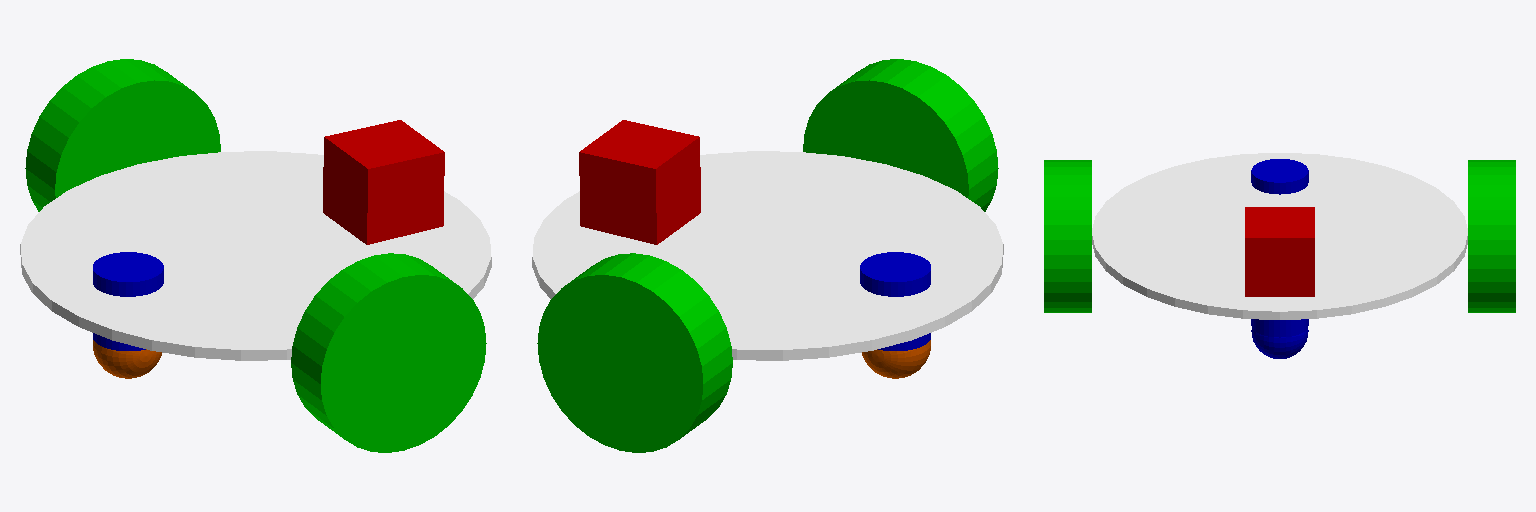
The robot description file, URDF, robot "my_model":
<?xml version="1.0" ?>

<robot name="my_model" xmlns:xacro="http://www.ros.org/wiki/xacro">
  <!-- Wheels -->
  <!-- in kg-->
  <!-- Defining the colors used in this robot -->
  
  <material name="Black">
    <color rgba="0.0 0.0 0.0 1.0"/>
  </material>
  <material name="Red">
    <color rgba="0.8 0.0 0.0 1.0"/>
  </material>
  <material name="Green">
    <color rgba="0.0 0.8 0.0 1.0"/>
  </material>
  <material name="White">
    <color rgba="1.0 1.0 1.0 1.0"/>
  </material>
  <material name="Blue">
    <color rgba="0.0 0.0 0.8 1.0"/>
  </material>
   --&gt; 

  <!-- BASE-LINK -->
  <!--Actual body/chassis of the robot-->

  <link name="base_link">
    <inertial>
      <mass value="0.1"/>
      <origin xyz="0 0 0.05"/>
      <!--The 3x3 rotational inertia matrix. -->
       <inertia ixx="0.0000282916666667" ixy="0" ixz="0" iyy="0.0000282916666667" iyz="0" izz="0.00005625"/>
    </inertial>
    <visual>
      <origin rpy="0 0 0" xyz="0 0 0"/>
      <geometry>
        <cylinder length="0.004" radius="0.08"/>
      </geometry>
      <material name="White"/>
    </visual>
    <collision>
      <origin rpy="0 0 0 " xyz="0 0 0"/>
      <geometry>
        <cylinder length="0.005" radius="0.08"/>
      </geometry>
    </collision>
  </link>
  <gazebo reference="base_link">
    <material>Gazebo/White</material>
    <turnGravityOff>false</turnGravityOff>
  </gazebo>

  <!-- BASE-upperlink -->

<!-- <link name="base_upperlink">
    <inertial>
      <mass value="0.01"/>
      <origin xyz="0 0 0"/>
      <inertia ixx="0.0001" ixy="0" ixz="0" iyy="0.0001" iyz="0" izz="0.0001"/>
    </inertial>
    <visual>
      <origin rpy="0 0 0" xyz="0 0 0"/>
      <geometry>
        <cylinder length="0.004" radius="0.12"/>
      </geometry>
  <material name="White"/>  
  </visual>
    <collision>
      <origin rpy="0 0 0 " xyz="0 0 0"/>
      <geometry>
        <cylinder length="0.005" radius="0.08"/>
      </geometry>
   <material name="White"/>
    </collision>
  </link>
  <gazebo reference="base_upperlink">
  
    <turnGravityOff>false</turnGravityOff>
  </gazebo>
  <joint name="base_upperlink_joint" type="fixed">
    <origin rpy="0 0 0" xyz="0 0 0.054"/>
    <parent link="base_link"/>
    <child link="base_upperlink"/>
  </joint>
 -->



  <!--fb : front, back ; lr: left, right -->
  <link name="right_wheel">
    <visual>
      <origin rpy="1.57079632679 0  0 " xyz="0 0 0"/>
      <geometry>
        <cylinder length="0.02" radius="0.0325"/>
      </geometry>
      <material name="Green"/>
    </visual>
    <collision>
      <origin rpy="1.57079632679 0 0 " xyz="0 0 0"/>
      <geometry>
        <cylinder length="0.005" radius="0.025"/>
      </geometry>
    </collision>
    <inertial>
      <mass value="0.5"/>
      <origin xyz="0 0 0"/>
      <inertia ixx="0.0001" ixy="0" ixz="0" iyy="0.0001" iyz="0" izz="0.0001"/>
    </inertial>
  </link>
  <gazebo reference="right_wheel">
    <mu1 value="1.0"/>
    <mu2 value="1.0"/>
    <kp value="100000.0"/>
    <kd value="1.0"/>
    <fdir1 value="1 0 0"/>
    <material>Gazebo/Green</material>
    <turnGravityOff>false</turnGravityOff>
  </gazebo>
  <joint name="right_wheel_joint" type="continuous">
    <parent link="base_link"/>
    <child link="right_wheel"/>
      <origin rpy="0 0 0" xyz="0.0 0.09 0"/>
    <axis rpy="0 0 0" xyz="0 1 0"/>
    <limit effort="100" velocity="100"/>
    <joint_properties damping="0.0" friction="0.0"/>
  </joint>
  <!-- Transmission is important to link the joints and the controller -->


  <transmission name="right_wheel_joint_trans">
    <type>transmission_interface/SimpleTransmission</type>
    <joint name="right_wheel_joint"/>
    <actuator name="right_wheel_joint_motor">
      <hardwareInterface>EffortJointInterface</hardwareInterface>
      <mechanicalReduction>1</mechanicalReduction>
    </actuator>
  </transmission>
  
  <!--left motor -->
  <link name="left_wheel">
    <visual>
      <origin rpy="1.57079632679 0  0 " xyz="0 0 0"/>
      <geometry>
        <cylinder length="0.02" radius="0.0325"/>
      </geometry>
      <material name="Green"/>
    </visual>
    <collision>
      <origin rpy="1.57079632679 0 0 " xyz="0 0 0"/>
      <geometry>
        <cylinder length="0.005" radius="0.025"/>
      </geometry>
    </collision>
    <inertial>
      <mass value="0.5"/>
      <origin xyz="0 0 0"/>
      <inertia ixx="0.0001" ixy="0" ixz="0" iyy="0.0001" iyz="0" izz="0.0001"/>
    </inertial>
  </link>
  <gazebo reference="left_wheel">
    <mu1 value="1.0"/>
    <mu2 value="1.0"/>
    <kp value="100000.0"/>
    <kd value="1.0"/>
    <fdir1 value="1 0 0"/>
    <material>Gazebo/Green</material>
    <turnGravityOff>false</turnGravityOff>
  </gazebo>
  <joint name="left_wheel_joint" type="continuous">
    <parent link="base_link"/>
    <child link="left_wheel"/>
    <origin rpy="0 0 0" xyz="0.0 -0.09 0"/>
    <axis rpy="0  0" xyz="0 1 0"/>
    <limit effort="100" velocity="100"/>
    <joint_properties damping="0.0" friction="0.0"/>
  </joint>

  <!-- Transmission is important to link the joints and the controller -->
  <transmission name="left_wheel_joint_trans">
    <type>transmission_interface/SimpleTransmission</type>
    <joint name="left_wheel_joint"/>
    <actuator name="left_wheel_joint_motor">
      <hardwareInterface>EffortJointInterface</hardwareInterface>
      <mechanicalReduction>1</mechanicalReduction>
    </actuator>
  </transmission>

  <!--Caster front  -->

  <link name="caster_front_link">
    <visual>
      <origin rpy="1.57079632679 0 0" xyz="0 0 0"/>
      <geometry>
        <sphere radius="0.01214"/>
      </geometry>
      <material name="Blue"/>
    </visual>
    <collision>
      <geometry>
        <sphere radius="0.007"/>
      </geometry>
      <origin rpy="1.57079632679 0 0" xyz="0 0 0"/>
    </collision>
    <inertial>
      <mass value="0.5"/>
      <origin xyz="0 0 0"/>
      <inertia ixx="0.0000001" ixy="0.0" ixz="0.0" iyy="0.0000001" iyz="0.0" izz="0.0000001"/>
    </inertial>
  </link>
  <joint name="caster_front_joint" type="continuous">
    <parent link="caster_link"/>
    <child link="caster_front_link"/>
    <origin rpy="0 0 0" xyz="0.05 0 -0.01545"/>
    <axis rpy="0 0 0" xyz="0 1 0"/>
  </joint>
  <gazebo reference="caster_front_link">
<!--     <mu1 value="1.0"/>
    <mu2 value="1.0"/>
    <kp value="100000.0"/>
    <kd value="1.0"/>
    <fdir1 value="1 1 0"/> -->
    <turnGravityOff>false</turnGravityOff>
    <material>Gazebo/Blue</material>
  </gazebo>
  
<link name="caster_link">
    <visual>
      <origin rpy="0 0  0 " xyz="0.05 0 0"/>
      <geometry>
        <cylinder length="0.02586" radius="0.01214"/>
      </geometry>
      <material name="Blue"/>
    </visual>
    <collision>
      <origin rpy="0 0 0 " xyz="0.05 0 0"/>
      <geometry>
        <cylinder length="0.02586" radius="0.005"/>
      </geometry>
    </collision>
    <inertial>
      <mass value="0.05"/>
      <origin xyz="0.05 0 0"/>
      <inertia ixx="0.00001" ixy="0" ixz="0" iyy="0.00001" iyz="0" izz="0.00001"/>
    </inertial>
  </link>
  
<joint name="caster_front_joint_base" type="fixed">
    <parent link="base_link"/>
    <child link="caster_link"/>
    <origin rpy="0 0 0" xyz="0 0.0 -0.00545"/>
  </joint>
  <gazebo reference="caster_link">
    <turnGravityOff>false</turnGravityOff>
    <material>Gazebo/Blue</material>
  </gazebo>
  
   <!--Caster back  -->

  <link name="caster_back_link">
    <visual>
      <origin rpy="1.57079632679 0 0" xyz="0 0 0"/>
      <geometry>
        <sphere radius="0.01214"/>
      </geometry>
      <material name="Blue "/>
    </visual>
    <collision>
      <geometry>
        <sphere radius="0.007"/>
      </geometry>
      <origin rpy="1.57079632679 0 0" xyz="0 0 0"/>
    </collision>
    <inertial>
      <mass value="0.5"/>
      <origin xyz="0 0 0"/>
      <inertia ixx="0.0000001" ixy="0.0" ixz="0.0" iyy="0.0000001" iyz="0.0" izz="0.0000001"/>
    </inertial>
  </link>
  <joint name="caster_back_joint" type="continuous">
    <parent link="caster_link"/>
    <child link="caster_back_link"/>
    <origin rpy="0 0 0" xyz="-0.05 0 -0.01545"/>
    <axis rpy="0 0 0" xyz="0 1 0"/>
  </joint>
  <gazebo reference="caster_back_link">
<!--     <mu1 value="1.0"/>
    <mu2 value="1.0"/>
    <kp value="100000.0"/>
    <kd value="1.0"/>
    <fdir1 value="1 1 0"/> -->
    <turnGravityOff>false</turnGravityOff>
    <material>Gazebo/Blue</material>
  </gazebo>
  
<link name="caster_link_back">
    <visual>
      <origin rpy="0 0  0 " xyz="-0.05 0 0"/>
      <geometry>
        <cylinder length="0.02586" radius="0.01214"/>
      </geometry>
      <material name="Blue"/>
    </visual>
    <collision>
      <origin rpy="0 0 0 " xyz="-0.05 0 0"/>
      <geometry>
        <cylinder length="0.02586" radius="0.005"/>
      </geometry>
    </collision>
    <inertial>
      <mass value="0.05"/>
      <origin xyz="0.05 0 0"/>
      <inertia ixx="0.00001" ixy="0" ixz="0" iyy="0.00001" iyz="0" izz="0.00001"/>
    </inertial>
  </link>
  
<joint name="caster_back_joint_base" type="fixed">
    <parent link="base_link"/>
    <child link="caster_link_back"/>
    <origin rpy="0 0 0" xyz="0 0.0 -0.00545"/>
  </joint>
  <gazebo reference="caster_link_back">
    <turnGravityOff>false</turnGravityOff>
    <material>Gazebo/Blue</material>
  </gazebo> 



  <!-- hokuyo -->
<joint name="laser_sensor" type="fixed">
    <axis xyz="1 0 0"/>      
    <origin rpy="0 .02 0" xyz="0.05 0 0.015"/>
    <parent link="base_link"/>
    <child link="laser_link"/>
  </joint>

<link name="laser_link">
  <inertial>
    <mass value="0.001"/>
    <origin rpy="0 0 0" xyz="0.05 0 0"/>
    <inertia ixx="0.001" ixy="0" ixz="0" iyy="0.001" iyz="0" izz="0.001"/>
  </inertial>
  <visual>
    <origin rpy="0 0 0" xyz="0 0 0"/>
    <geometry>
      <box size="0.03 0.03 0.03"/>
    </geometry>
    <material name="Red"/>  
  </visual>
  <collision>
    <origin rpy="0 0 0" xyz="0 0 0"/>
    <geometry>
      <box size=".03 .03 .03"/>
    </geometry>
  </collision>
</link>

  <gazebo reference="laser_link">
   <material>Gazebo/Red</material>
    <turnGravityOff>false</turnGravityOff>
   
 <sensor name="laser_sensor" type="ray">
   
   <pose>0 0 0 0 0 0 0</pose>
      <visualize>true</visualize>
      <update_rate>100</update_rate>
      <ray>
  
      <scan>
          <horizontal>
            <samples>700</samples>
            <resolution>1</resolution>
            <min_angle>-1.57079632679</min_angle>
            <max_angle>1.57079632679</max_angle>
          </horizontal>
        </scan>

        <range>
          <min>0.1</min>
          <max>30</max>
          <resolution>0.001</resolution>
        </range>

      </ray>

      <plugin filename="libgazebo_ros_laser.so" name="gazebo_ros_head_hokuyo_controller">
        <topicName>/scan</topicName>
        <frameName>base_link</frameName>
      </plugin>
   </sensor>
  </gazebo>


<!--   <link name="support_1">
    <visual>
      <origin rpy="0 0 0" xyz="0 0 0"/>
      <geometry>
       <cylinder length="0.05" radius="0.01"/>
      </geometry>
   <material name="Black"/>
    </visual>

  </link> 

  <joint name="support_joint1" type="fixed">
    <origin rpy="0 0 0" xyz="0.04 -0.07 0.027"/>
    <parent link="base_link"/>
    <child link="support_1"/>
  </joint>
  
  <gazebo reference="support_1">
    <turnGravityOff>false</turnGravityOff>
    <material>Gazebo/Black</material>
  </gazebo>

<link name="support_2">
    <visual>
      <origin rpy="0 0 0" xyz="0 0 0"/>
      <geometry>
       <cylinder length="0.05" radius="0.01"/>
      </geometry>
   <material name="Black"/>
    </visual>

  </link> 

  <joint name="support_joint2" type="fixed">
    <origin rpy="0 0 0" xyz="0.04 0.07 0.027"/>
    <parent link="base_link"/>
    <child link="support_2"/>
  </joint>
  <gazebo reference="support_2">
    <turnGravityOff>false</turnGravityOff>
    <material>Gazebo/Black</material>
  </gazebo>

<link name="support_3">
    <visual>
      <origin rpy="0 0 0" xyz="0 0 0"/>
      <geometry>
       <cylinder length="0.05" radius="0.01"/>
      </geometry>
   <material name="Black"/>
    </visual>

  </link> 

  <joint name="support_joint3" type="fixed">
    <origin rpy="0 0 0" xyz="-0.06 -0.07 0.027"/>
    <parent link="base_link"/>
    <child link="support_3"/>
  </joint>

  <gazebo reference="support_3">
    <turnGravityOff>false</turnGravityOff>
    <material>Gazebo/Black</material>
  </gazebo>

<link name="support_4">
    <visual>
      <origin rpy="0 0 0" xyz="0 0 0"/>
      <geometry>
       <cylinder length="0.05" radius="0.01"/>
      </geometry>
   <material name="Black"/>
    </visual>

  </link> 

  <joint name="support_joint4" type="fixed">
    <origin rpy="0 0 0" xyz="-0.06 0.07 0.027"/>
    <parent link="base_link"/>
    <child link="support_4"/>
  </joint>

  <gazebo reference="support_4">
    <turnGravityOff>false</turnGravityOff>
    <material>Gazebo/Black</material>
  </gazebo> -->

<gazebo>
    <plugin filename="libgazebo_ros_diff_drive.so" name="differential_drive_controller_front">
      <rosDebugLevel>Debug</rosDebugLevel>
      <publishWheelTF>True</publishWheelTF>
      <publishTf>1</publishTf>
      <publishWheelJointState>true</publishWheelJointState>
      <alwaysOn>true</alwaysOn>
      <updateRate>100.0</updateRate>
      <leftJoint>left_wheel_joint</leftJoint>
      <rightJoint>right_wheel_joint</rightJoint>
      <wheelSeparation>0.3</wheelSeparation>
      <wheelDiameter>0.065</wheelDiameter>
      <broadcastTF>1</broadcastTF>
      <wheelTorque>30</wheelTorque>
      <wheelAcceleration>1.8</wheelAcceleration>
      <commandTopic>cmd_vel</commandTopic>
      <odometryFrame>odom</odometryFrame>
      <odometryTopic>odom</odometryTopic>
      <robotBaseFrame>base_link</robotBaseFrame>
    </plugin>
  </gazebo>
 
</robot>

--- Facts derived from the render (not from the file) ---
3 views of the same robot in one strip: view 1: azimuth 30°, elevation 25°; view 2: azimuth 150°, elevation 25°; view 3: azimuth 270°, elevation 25° (orthographic).
Model my_model with 8 links and 7 joints (4 continuous, 3 fixed), rooted at base_link, posed every joint at zero.
Links seen in each view (by area): view 1: base_link, left_wheel, right_wheel, laser_link, caster_link_back, caster_back_link; view 2: base_link, right_wheel, left_wheel, laser_link, caster_link_back, caster_back_link; view 3: base_link, right_wheel, left_wheel, laser_link, caster_link_back, caster_front_link, caster_link.
Boxes of the visible links, <box> form: base_link: <box>20,151,491,360</box>; left_wheel: <box>291,253,486,452</box>; right_wheel: <box>25,59,220,211</box>; laser_link: <box>323,120,444,244</box>; caster_link_back: <box>93,252,163,350</box>; caster_back_link: <box>93,340,161,378</box>; base_link: <box>532,151,1003,360</box>; right_wheel: <box>537,253,732,452</box>; left_wheel: <box>803,59,998,211</box>; laser_link: <box>579,120,700,244</box>; caster_link_back: <box>860,252,930,350</box>; caster_back_link: <box>862,340,930,378</box>; base_link: <box>1092,153,1467,319</box>; right_wheel: <box>1468,160,1515,312</box>; left_wheel: <box>1044,160,1091,312</box>; laser_link: <box>1245,207,1314,296</box>; caster_link_back: <box>1251,159,1308,194</box>; caster_front_link: <box>1251,329,1308,358</box>; caster_link: <box>1251,319,1308,337</box>.
Bounding box of the posed robot: 0.16 × 0.2 × 0.0655 m (x, y, z).
Geometry: primitives only (box / cylinder / sphere), no mesh files.
